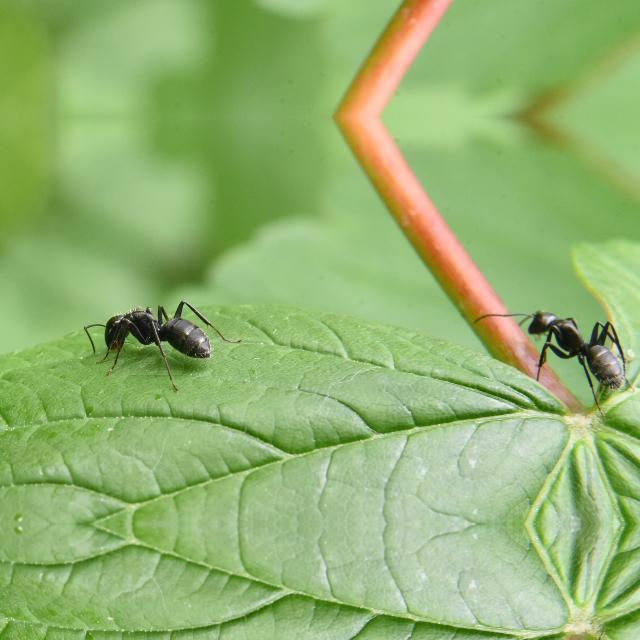Camponotus: (84, 273, 218, 381), (494, 288, 626, 394)
